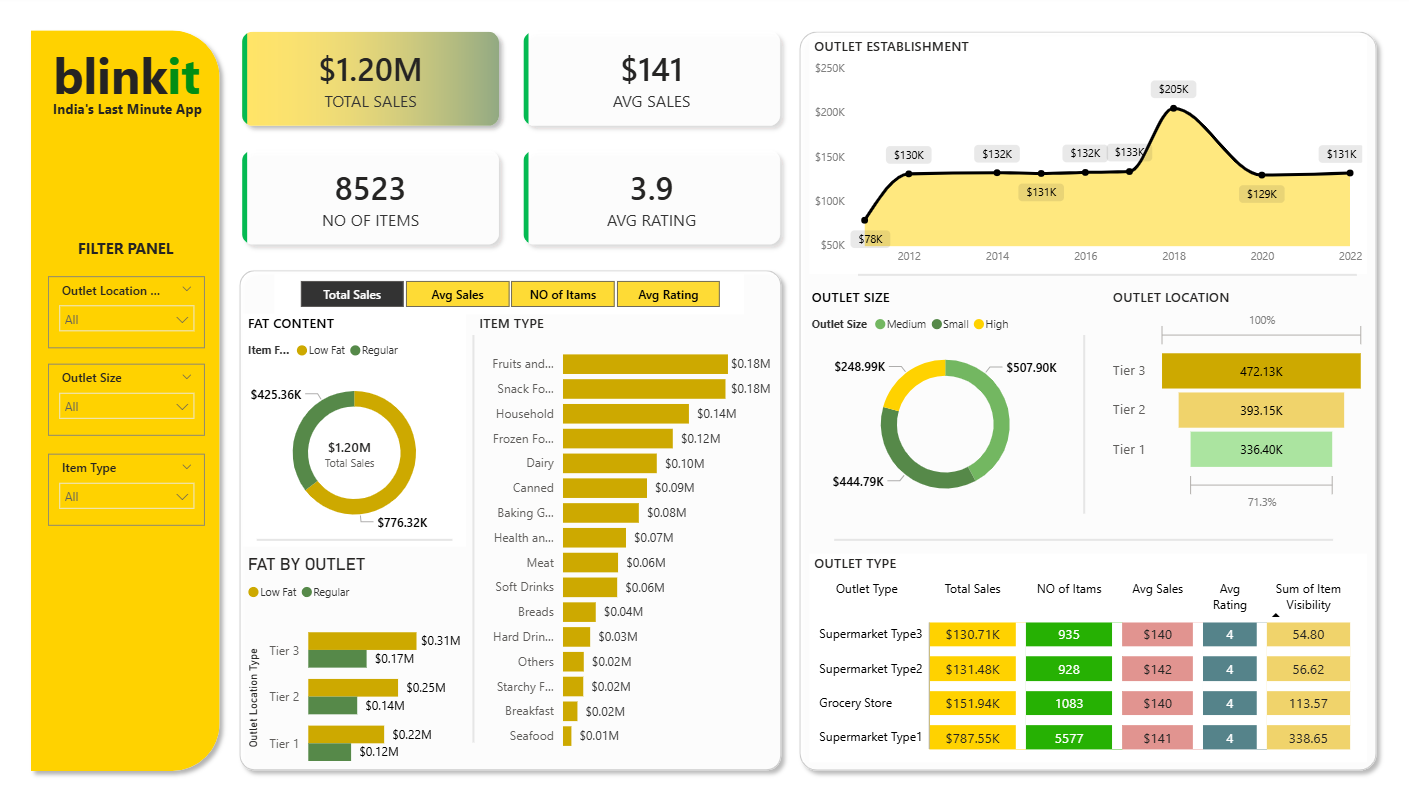

What the dashboard file says about the page in this screenshot:
{"tool":"powerbi","page":{"name":"Page 1","canvas":[1400,800],"ordinal":0},"visuals":[{"type":"shape","box":[23.8,25.4,204.8,750.8],"z":0},{"type":"textbox","box":[276.2,707.9,204.8,68.3],"z":1000},{"type":"textbox","box":[49.2,41.3,155.6,85.7],"z":2000},{"type":"textbox","box":[42.9,98.4,169.8,28.6],"z":3000},{"type":"cardVisual","fields":{"Data":["BlinkIT Grocery Data.Total Sales","BlinkIT Grocery Data.Avg Sales","BlinkIT Grocery Data.NO of Itams","BlinkIT Grocery Data.Avg Rating"]},"box":[212.7,7.9,590.5,268.3],"z":4000},{"type":"shape","box":[230.2,263.5,554,512.7],"z":5000},{"type":"donutChart","title":"FAT CONTENT","fields":{"Y":["BlinkIT Grocery Data.Total Sales"],"Category":["BlinkIT Grocery Data.Item Fat Content"]},"box":[242.9,315.9,220.6,230.2],"z":6000},{"type":"slicer","fields":{"Values":["Metrics.Metrics"]},"box":[273,276.2,465.1,39.7],"z":7000},{"type":"cardVisual","fields":{"Data":["BlinkIT Grocery Data.Total Sales"]},"box":[288.9,420.6,117.5,66.7],"z":8000},{"type":"clusteredBarChart","title":"FAT BY OUTLET","fields":{"Y":["BlinkIT Grocery Data.Total Sales"],"Category":["BlinkIT Grocery Data.Outlet Location Type"],"Series":["BlinkIT Grocery Data.Item Fat Content"]},"box":[242.9,552.4,220.6,230.2],"z":9000},{"type":"shape","box":[255.6,514.3,193.7,49.2],"z":10000},{"type":"shape","box":[449.2,336.5,42.9,403.2],"z":11000},{"type":"barChart","title":"ITEM TYPE","fields":{"Y":["BlinkIT Grocery Data.Total Sales"],"Category":["BlinkIT Grocery Data.Item Type"]},"box":[471.4,315.9,298.4,442.9],"z":12000},{"type":"shape","box":[784.1,27,588.9,749.2],"z":13000},{"type":"lineChart","title":"OUTLET ESTABLISHMENT","fields":{"Y":["BlinkIT Grocery Data.Total Sales"],"Category":["BlinkIT Grocery Data.Outlet Establishment Year"]},"box":[803.2,41.3,552.4,234.9],"z":14000},{"type":"shape","box":[850.8,252.4,493.7,49.2],"z":15000},{"type":"donutChart","title":"OUTLET SIZE","fields":{"Y":["BlinkIT Grocery Data.Total Sales"],"Category":["BlinkIT Grocery Data.Outlet Size"]},"box":[800,288.9,274.6,225.4],"z":16000},{"type":"shape","box":[1054.3,337,42,176.8],"z":17000},{"type":"funnel","title":"OUTLET LOCATION ","fields":{"Category":["BlinkIT Grocery Data.Outlet Location Type"],"Y":["Sum(BlinkIT Grocery Data.Sales)"]},"box":[1098.4,288.9,260.3,225.4],"z":18000},{"type":"shape","box":[827,514.3,493.7,49.2],"z":19000},{"type":"pivotTable","title":"OUTLET TYPE","fields":{"Rows":["BlinkIT Grocery Data.Outlet Type"],"Values":["BlinkIT Grocery Data.Total Sales","BlinkIT Grocery Data.NO of Itams","BlinkIT Grocery Data.Avg Sales","BlinkIT Grocery Data.Avg Rating","Sum(BlinkIT Grocery Data.Item Visibility)"]},"box":[803.2,552.4,552.4,206.3],"z":20000},{"type":"slicer","fields":{"Values":["BlinkIT Grocery Data.Outlet Location Type"]},"box":[49.2,277.8,155.6,71.4],"z":21000},{"type":"slicer","fields":{"Values":["BlinkIT Grocery Data.Outlet Size"]},"box":[49.2,365.1,155.6,71.4],"z":22000},{"type":"slicer","fields":{"Values":["BlinkIT Grocery Data.Item Type"]},"box":[49.2,454,155.6,71.4],"z":23000},{"type":"textbox","box":[74.6,234.9,104.8,58.7],"z":24000}]}

Visuals, with their boxes in screenshot pixels (x1, y1, x2, y2), scaled from the page's 1400x800 canvas onto the 1409x801 screenshot:
shape: (24, 25, 230, 777)
textbox: (278, 709, 484, 777)
textbox: (50, 41, 206, 127)
textbox: (43, 99, 214, 127)
cardVisual - BlinkIT Grocery Data.Total Sales x BlinkIT Grocery Data.Avg Sales: (214, 8, 808, 277)
shape: (232, 264, 789, 777)
"FAT CONTENT" donutChart: (244, 316, 466, 547)
slicer - Metrics.Metrics: (275, 277, 743, 316)
cardVisual - BlinkIT Grocery Data.Total Sales: (291, 421, 409, 488)
"FAT BY OUTLET" clusteredBarChart: (244, 553, 466, 784)
shape: (257, 515, 452, 564)
shape: (452, 337, 495, 741)
"ITEM TYPE" barChart: (474, 316, 775, 760)
shape: (789, 27, 1382, 777)
"OUTLET ESTABLISHMENT" lineChart: (808, 41, 1364, 277)
shape: (856, 253, 1353, 302)
"OUTLET SIZE" donutChart: (805, 289, 1082, 515)
shape: (1061, 337, 1103, 514)
"OUTLET LOCATION " funnel: (1105, 289, 1367, 515)
shape: (832, 515, 1329, 564)
"OUTLET TYPE" pivotTable: (808, 553, 1364, 760)
slicer - BlinkIT Grocery Data.Outlet Location Type: (50, 278, 206, 350)
slicer - BlinkIT Grocery Data.Outlet Size: (50, 366, 206, 437)
slicer - BlinkIT Grocery Data.Item Type: (50, 455, 206, 526)
textbox: (75, 235, 181, 294)
